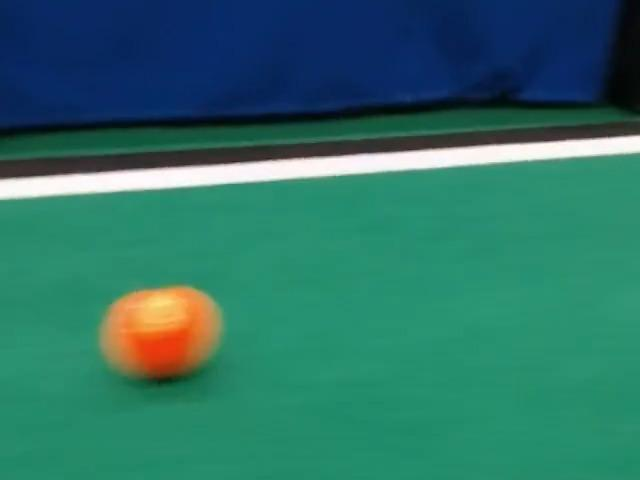Ball: (99, 287, 222, 379)
